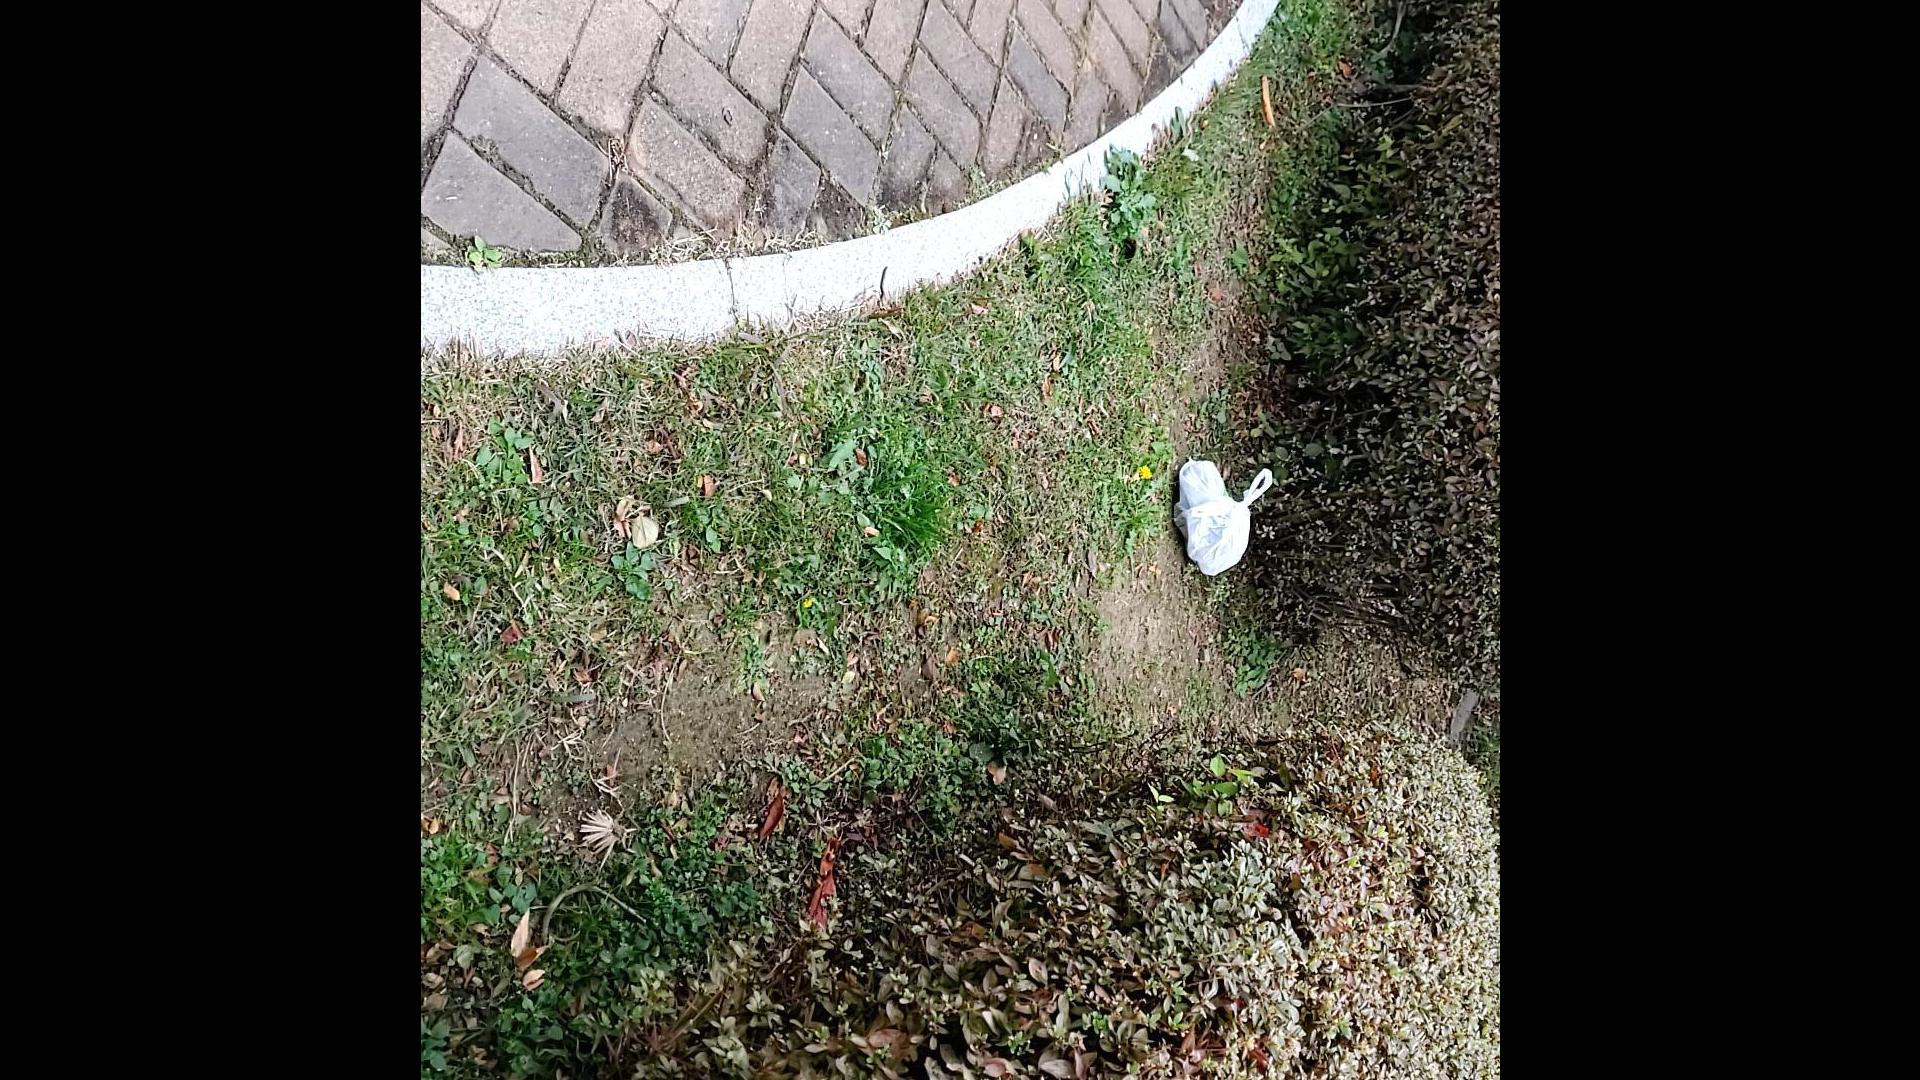white_bag: (1162, 443, 1287, 583)
